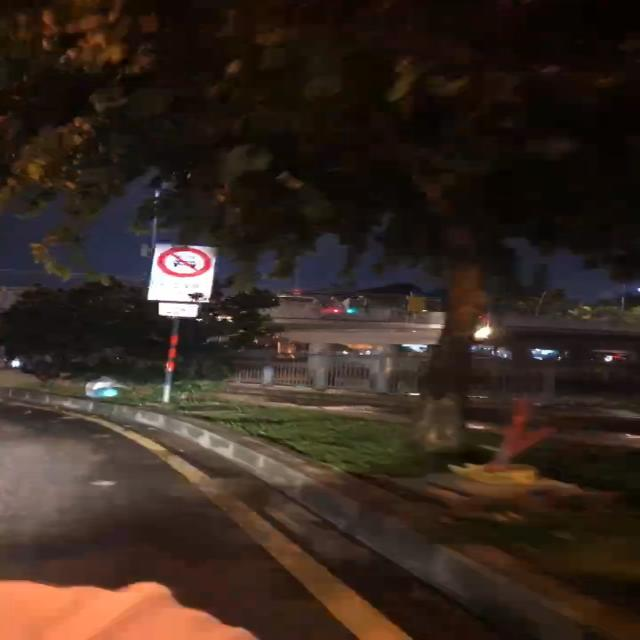Bien bao cam xe oto: (150, 244, 217, 278)
